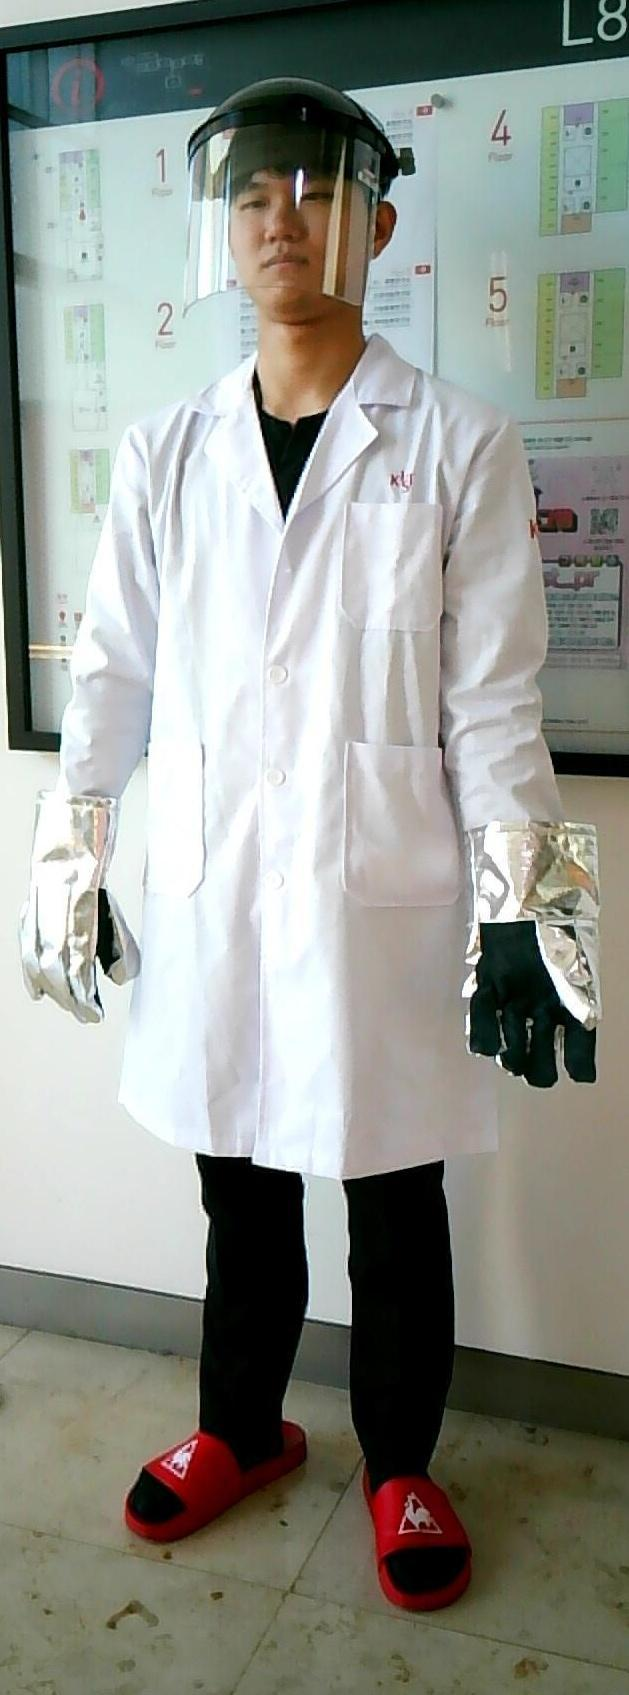lab_coat: (129, 401, 481, 1126)
